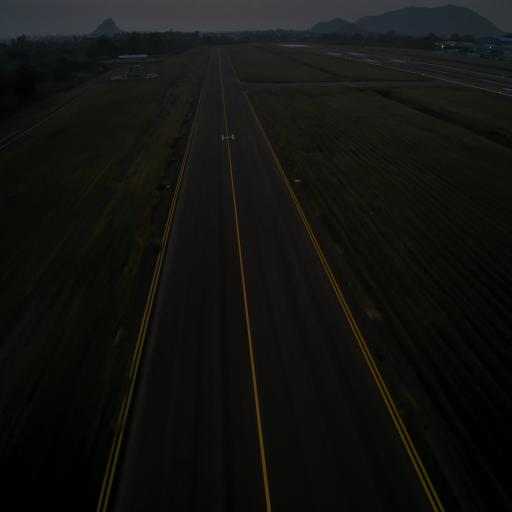on: (114, 328, 122, 344), (366, 305, 372, 320)
